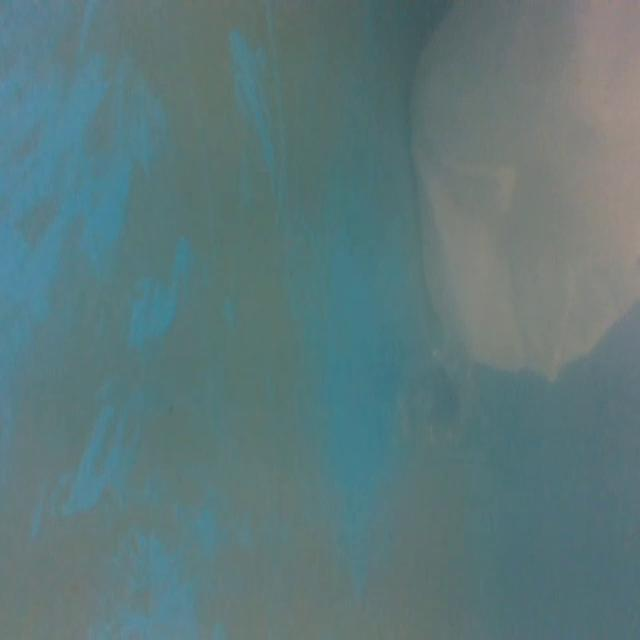plastic bags: (409, 3, 639, 382)
